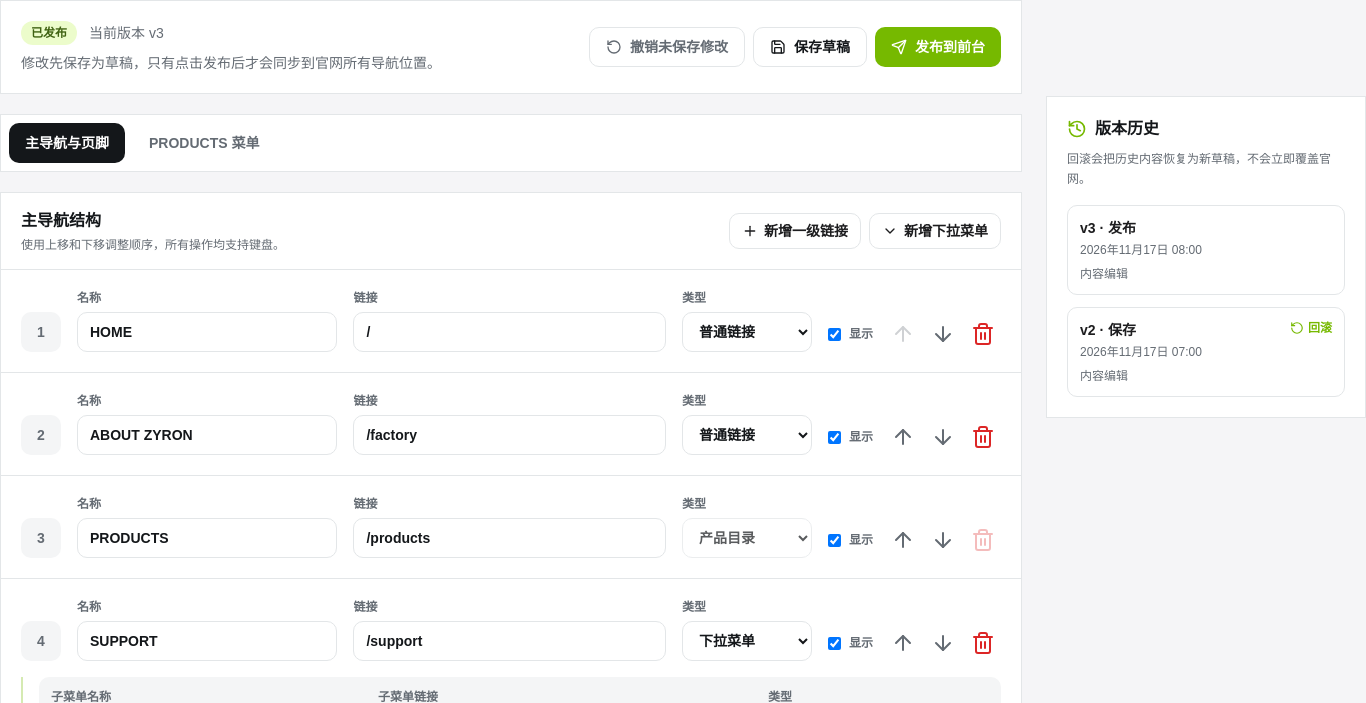
Test: NavigationEditor › edits, hides, adds, deletes, and keyboard-reorders navigation items
Replace the text in the field named "菜单 1 名称" with "START". click: [207, 332]
box: [77,312,337,352]
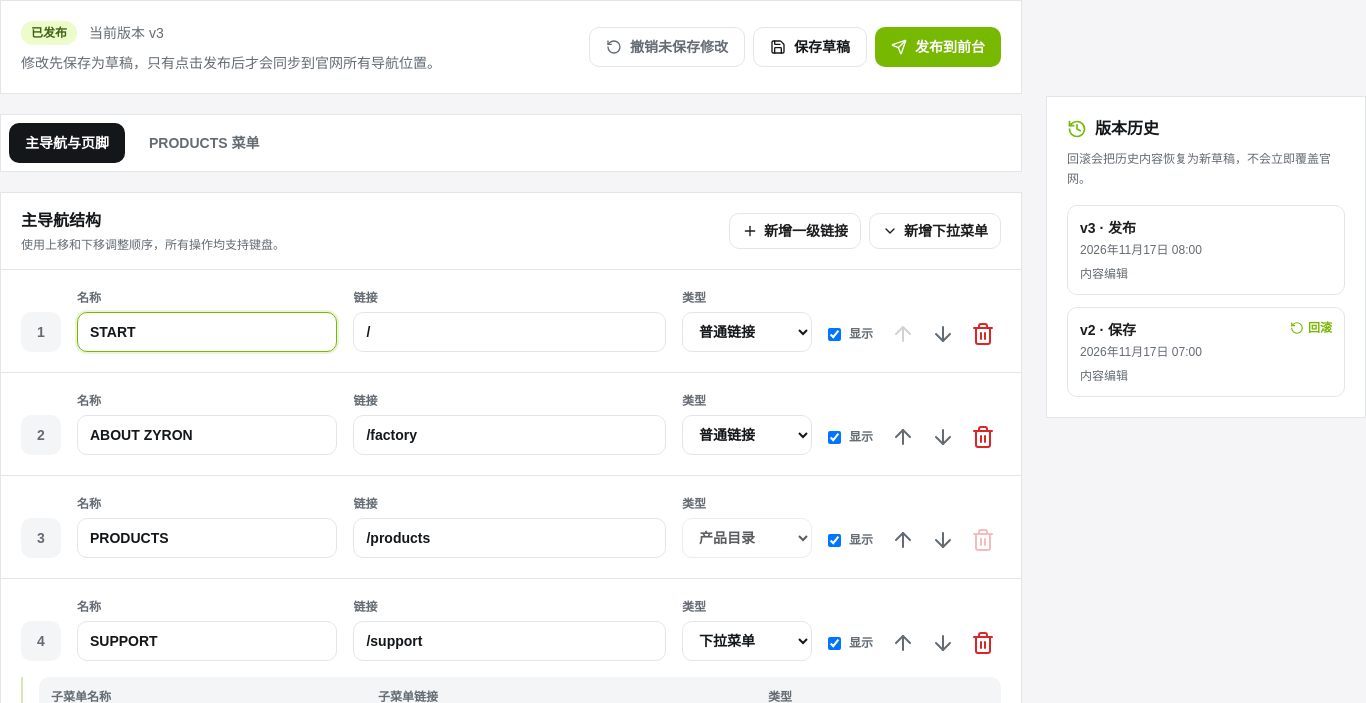
Click the checkbox named "START 显示". click: [834, 334]
box: [828,328,841,340]
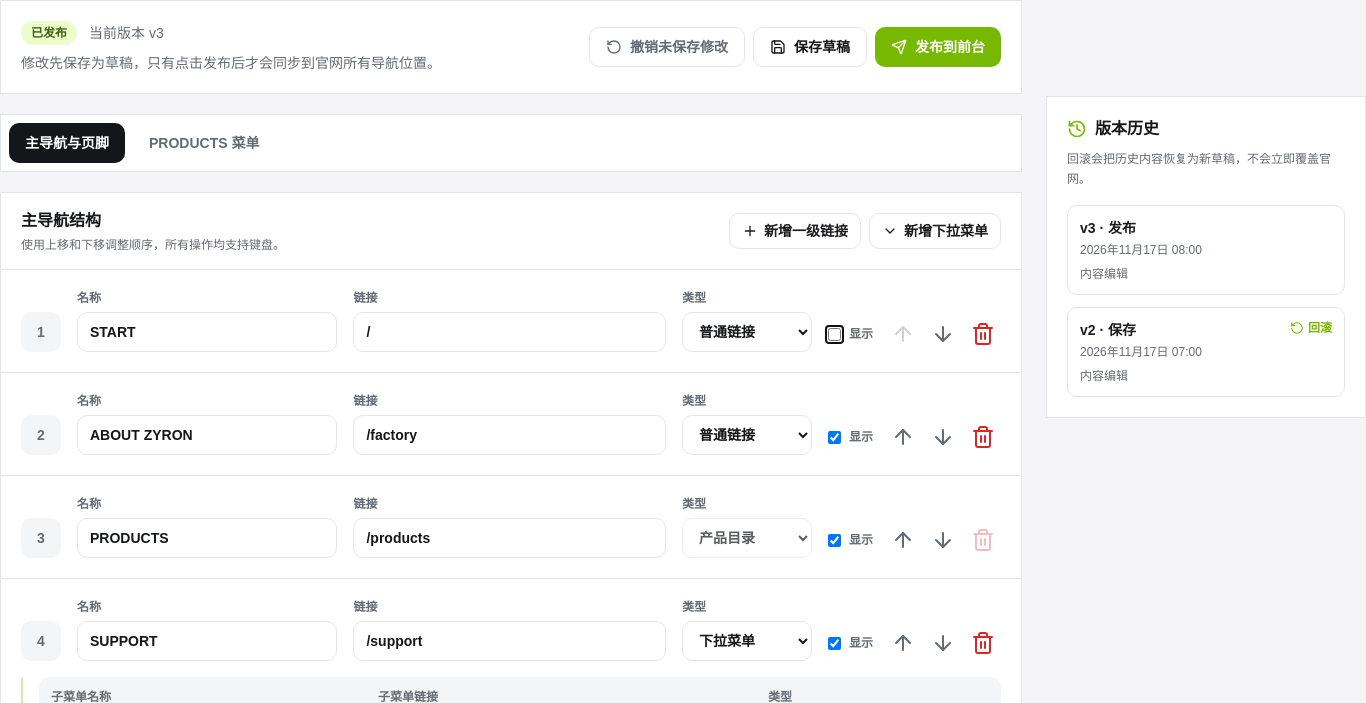
Click the button named "下移 START". click: [943, 334]
box: [925,316,961,352]
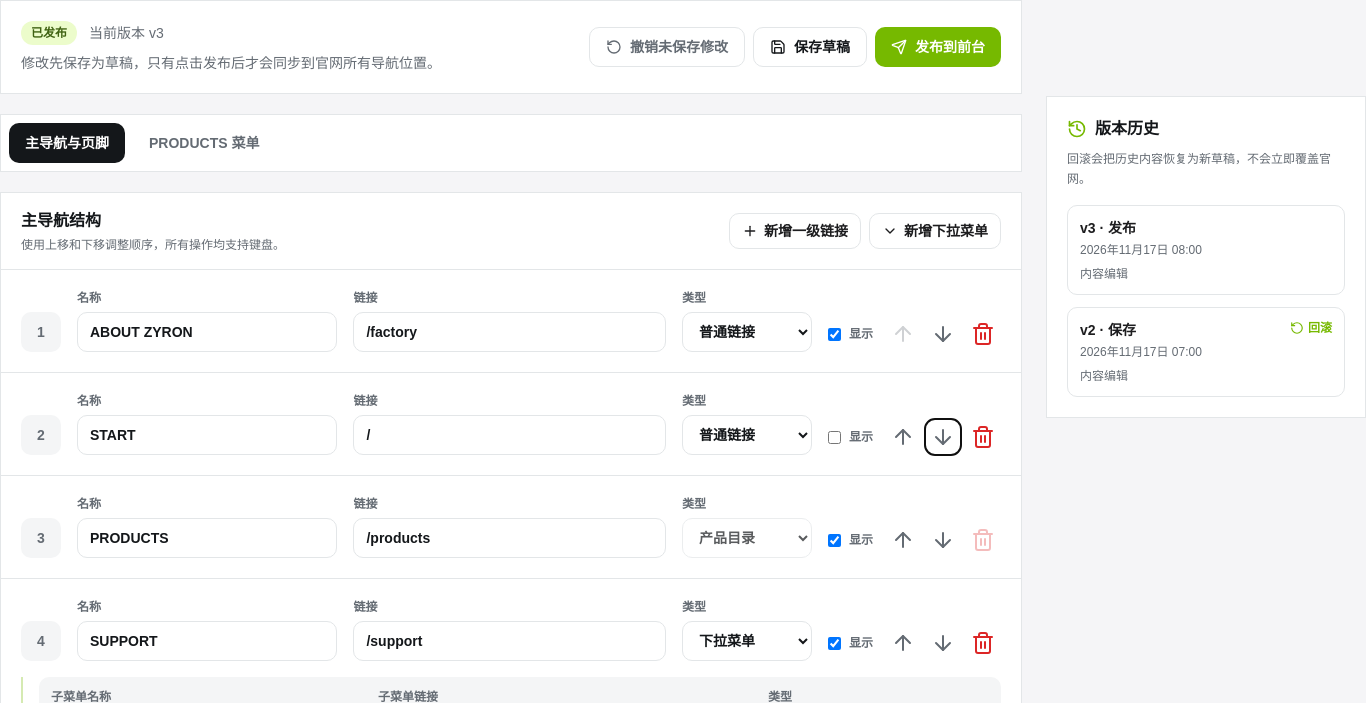
Click the button "新增一级链接". click: [795, 231]
box: [729,213,861,249]
(page scrolled)
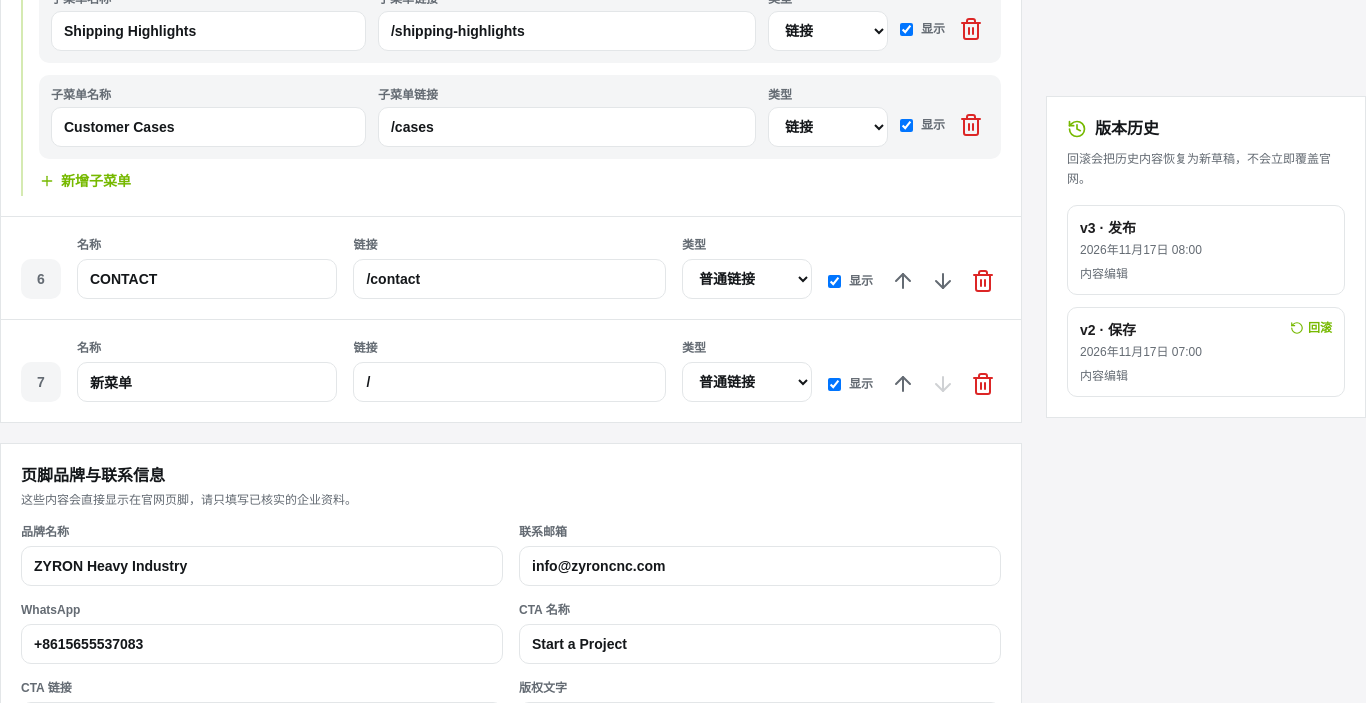
Now the number of elements with test id "primary-navigation-item" is 7
Click the button named "删除 新菜单". click: [983, 384]
box: [965,366,1001,402]
(page scrolled)
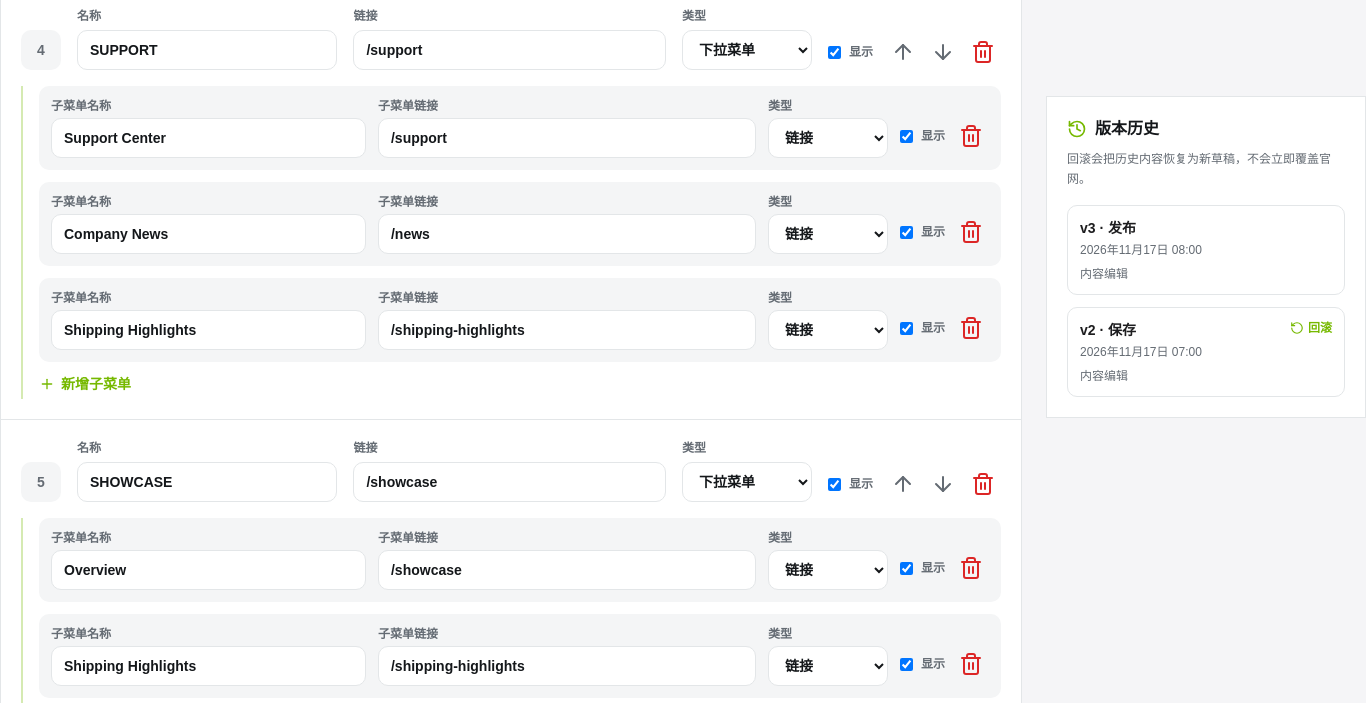
Now the number of elements with test id "primary-navigation-item" is 6
Click the button with aria-label "为 SUPPORT 新增子项". click: [85, 384]
box: [39,374,131,394]
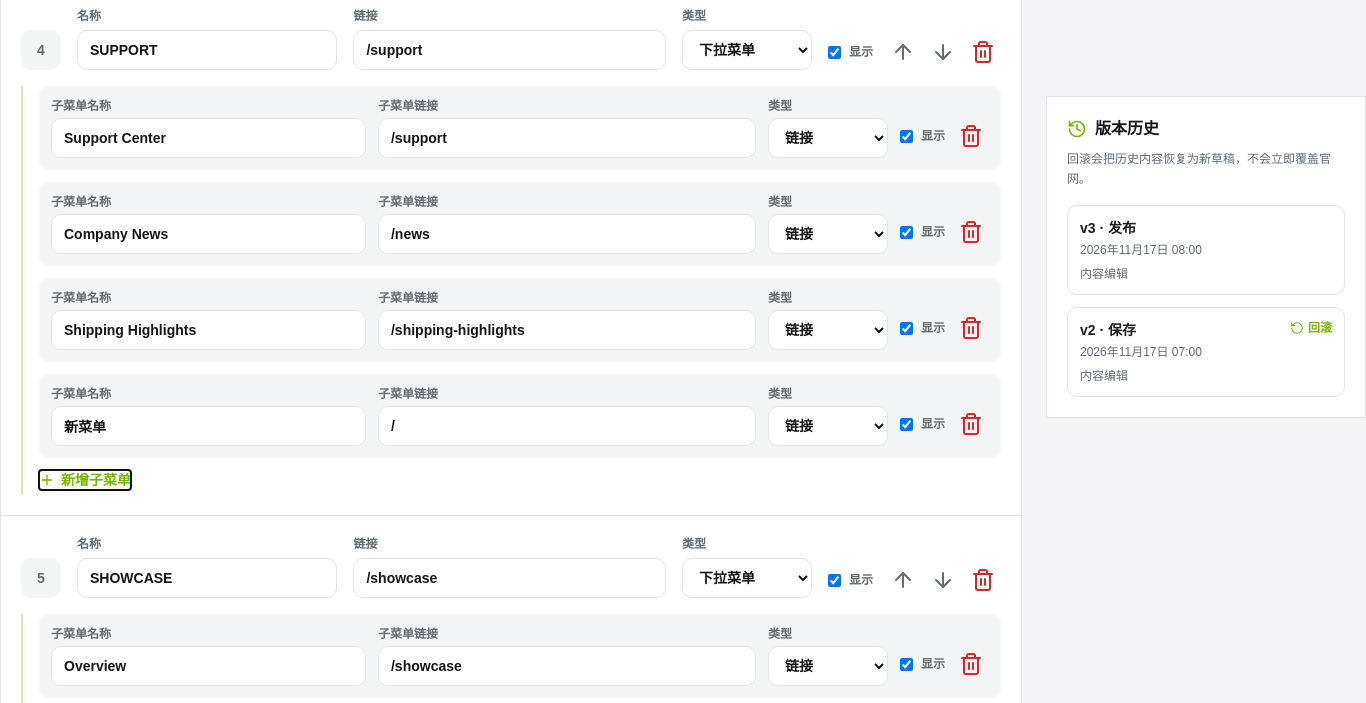
Now the field named "SUPPORT 子菜单 4 名称" is shown, box [51,406,366,446]
